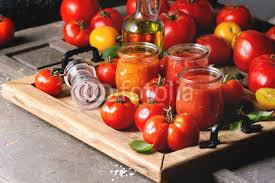Tomato: (147, 110, 199, 148), (237, 31, 272, 65), (224, 73, 249, 112), (107, 96, 135, 130), (163, 14, 197, 40), (144, 77, 175, 103), (63, 18, 92, 42), (38, 70, 63, 94), (97, 57, 116, 80)
